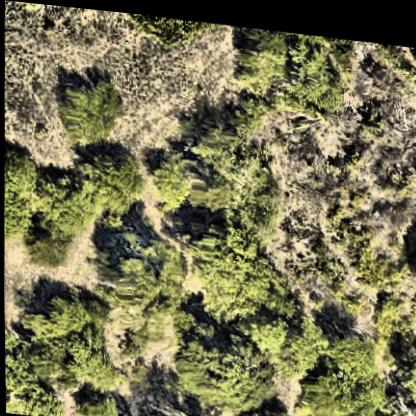tree-top: (187, 217, 296, 320), (189, 101, 281, 220), (168, 318, 278, 409), (295, 318, 393, 416), (21, 281, 109, 373), (111, 230, 191, 311), (51, 66, 127, 143), (70, 139, 144, 216), (285, 32, 347, 117), (27, 162, 92, 238), (4, 351, 62, 416), (128, 10, 209, 49), (147, 142, 189, 208), (235, 37, 282, 95), (349, 233, 402, 282), (366, 280, 410, 327), (2, 135, 36, 194), (29, 227, 69, 273), (71, 388, 129, 416), (142, 398, 227, 416), (2, 187, 31, 236), (235, 400, 296, 416)
